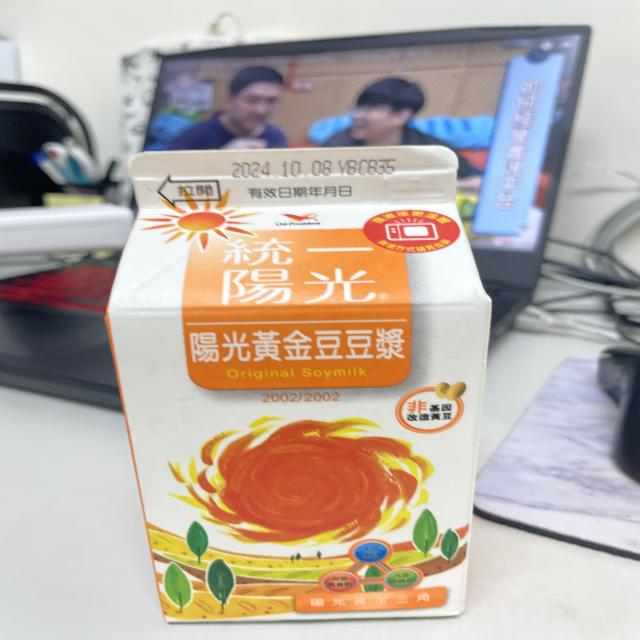TongYi_SoyMilk: (100, 140, 493, 633)
